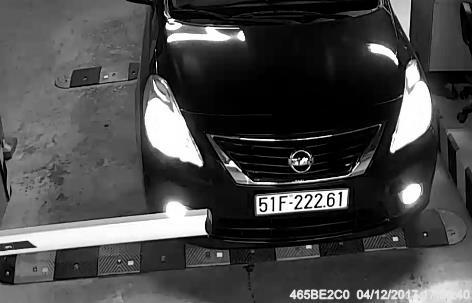License-plate: (251, 186, 355, 222)
